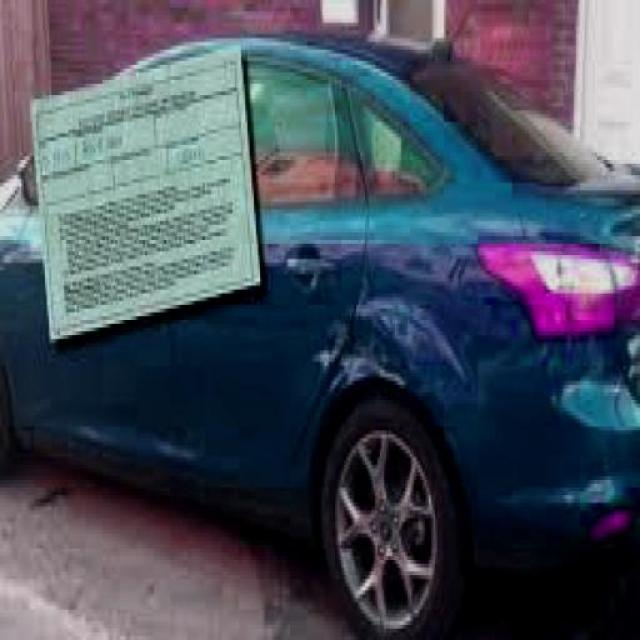car damage: (317, 278, 520, 385)
